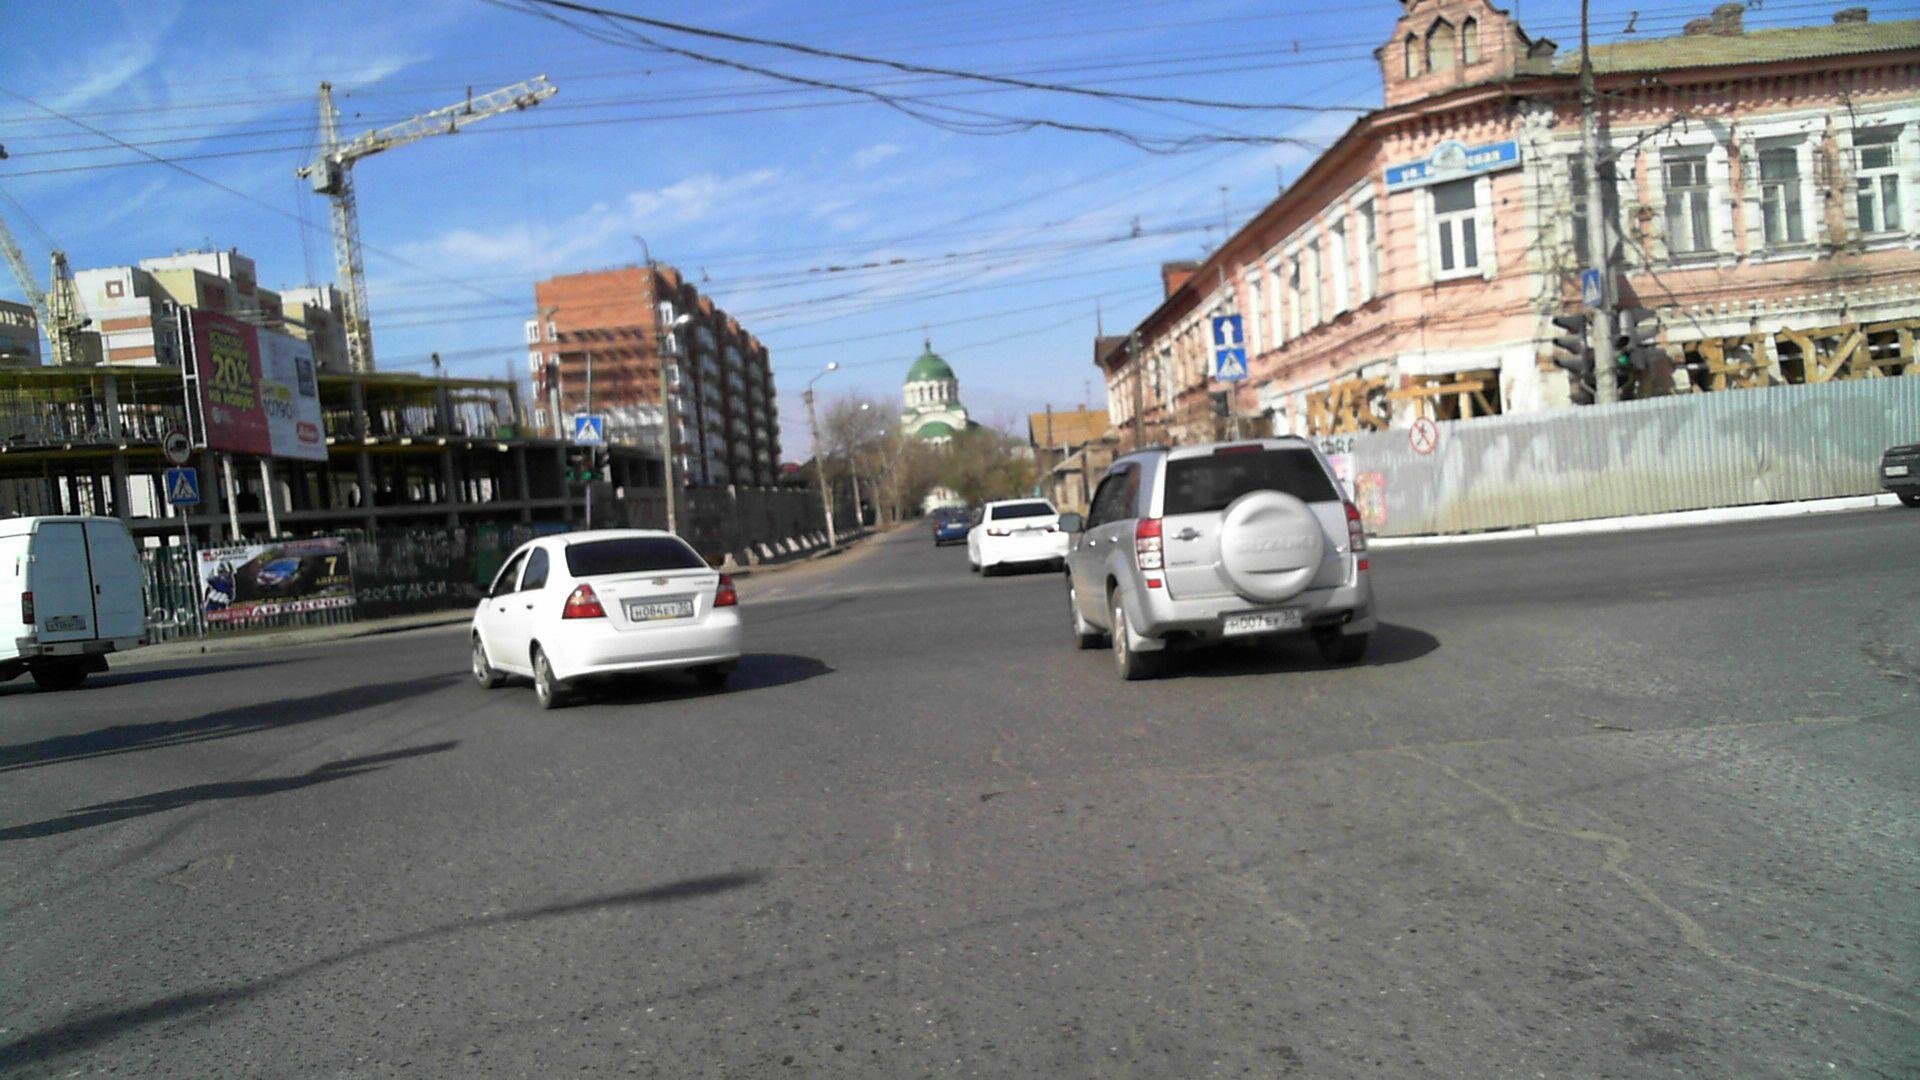3_10: (1412, 415, 1437, 455)
5_19_1: (1212, 348, 1247, 380)
5_19_2: (1576, 269, 1606, 306), (576, 414, 601, 440)
5_5: (1215, 310, 1245, 348)
